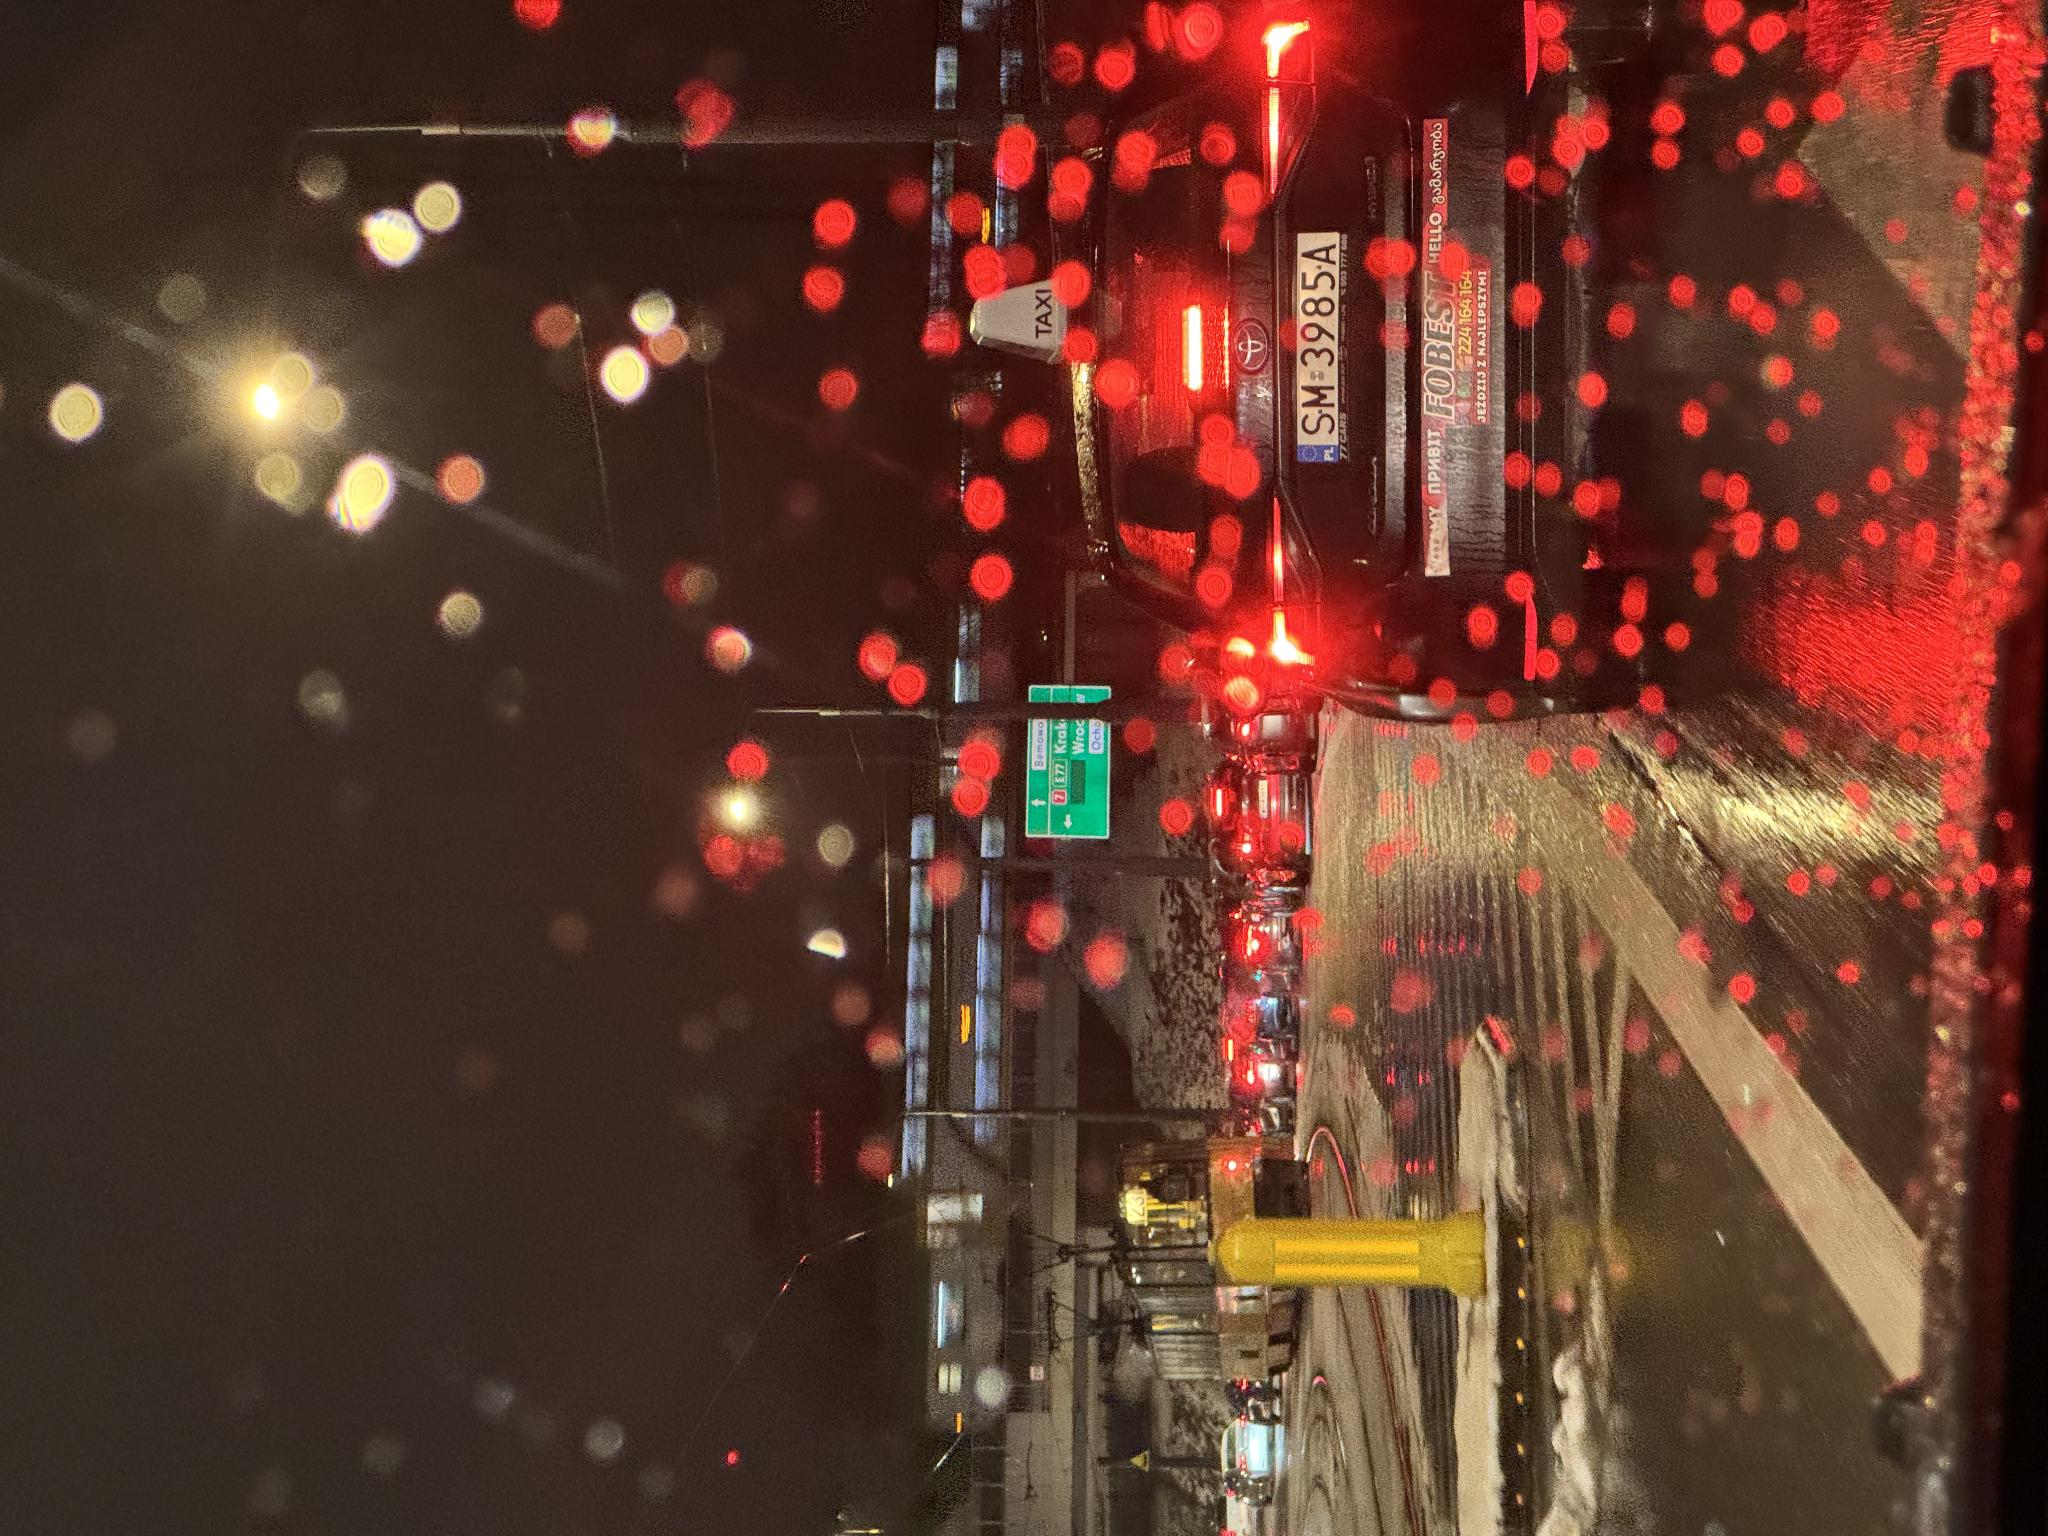direction-city: (698, 1026, 816, 1108), (835, 1028, 851, 1110)
